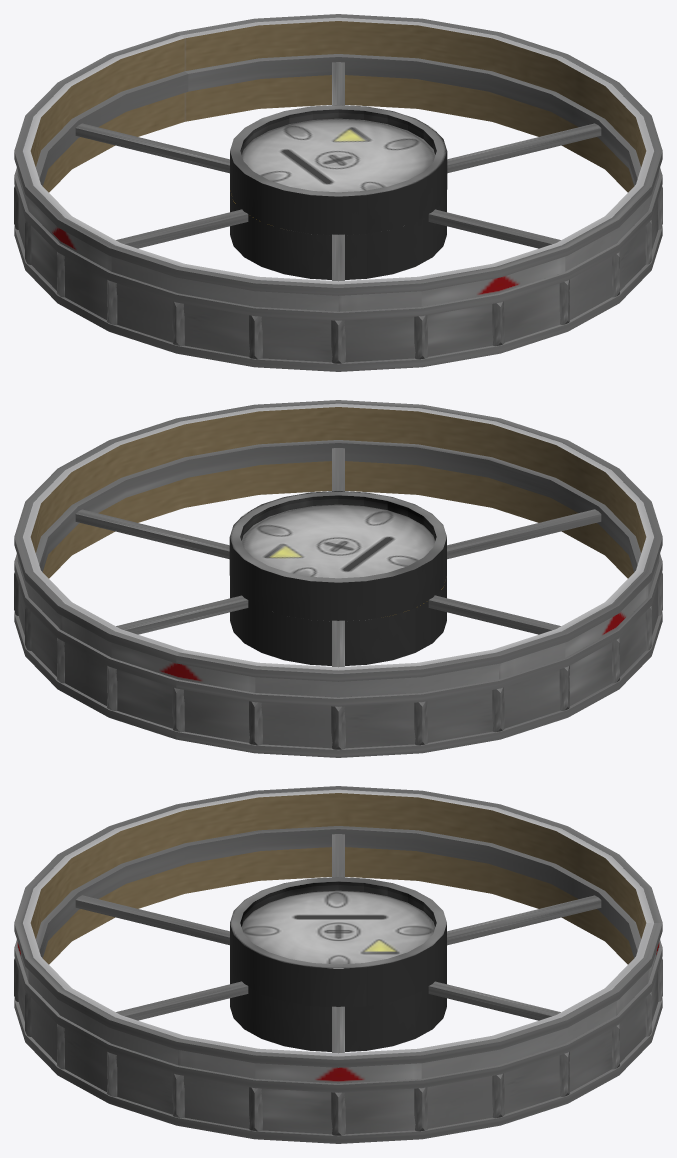
The picture shows the model from 3 angles, top to bottom: view 1: azimuth 30°, elevation 25°; view 2: azimuth 150°, elevation 25°; view 3: azimuth 270°, elevation 25°; orthographic projection.
Visible parts, largest first — view 1: Adapter18, Cylinder047, Tube003, Tube006, Cylinder046, Tube004, Tube005, Box108, Box115, Box114, Bracer052, Bracer051 (+3 smaller); view 2: Adapter18, Cylinder047, Tube003, Tube006, Cylinder046, Tube004, Tube005, Box108, Box114, Box115, Bracer044, Bracer043 (+3 smaller); view 3: Adapter18, Cylinder047, Tube003, Tube006, Cylinder046, Tube004, Tube005, Box114, Box115, Box108, Bracer060, Bracer059 (+3 smaller).
Boxes of the visible parts, left/top/right/bottom form: Adapter18: left=17, top=17, right=659, bottom=362; Cylinder047: left=230, top=105, right=447, bottom=235; Tube003: left=36, top=54, right=640, bottom=186; Tube006: left=14, top=14, right=662, bottom=295; Cylinder046: left=230, top=190, right=446, bottom=279; Tube004: left=14, top=168, right=662, bottom=320; Tube005: left=14, top=226, right=662, bottom=371; Box108: left=116, top=123, right=601, bottom=248; Box115: left=75, top=123, right=560, bottom=248; Box114: left=332, top=62, right=344, bottom=281; Bracer052: left=331, top=320, right=345, bottom=363; Bracer051: left=249, top=315, right=262, bottom=359; Adapter18: left=17, top=403, right=659, bottom=748; Cylinder047: left=229, top=491, right=446, bottom=621; Tube003: left=36, top=440, right=640, bottom=572; Tube006: left=14, top=400, right=662, bottom=681; Cylinder046: left=230, top=576, right=446, bottom=665; Tube004: left=14, top=554, right=662, bottom=706; Tube005: left=14, top=612, right=662, bottom=757; Box108: left=75, top=509, right=560, bottom=634; Box114: left=116, top=509, right=601, bottom=634; Box115: left=332, top=448, right=344, bottom=667; Bracer044: left=331, top=706, right=345, bottom=749; Bracer043: left=249, top=701, right=262, bottom=745; Adapter18: left=17, top=789, right=659, bottom=1134; Cylinder047: left=230, top=877, right=446, bottom=1007; Tube003: left=36, top=826, right=640, bottom=958; Tube006: left=14, top=786, right=662, bottom=1067; Cylinder046: left=230, top=963, right=446, bottom=1051; Tube004: left=14, top=940, right=662, bottom=1092; Tube005: left=14, top=998, right=662, bottom=1143; Box114: left=75, top=895, right=560, bottom=1020; Box115: left=116, top=895, right=601, bottom=1020; Box108: left=332, top=834, right=344, bottom=1053; Bracer060: left=331, top=1092, right=345, bottom=1135; Bracer059: left=249, top=1087, right=262, bottom=1131.
Size of what is drawn, in the model's own units: 1.9 by 0.2712 by 1.9.
